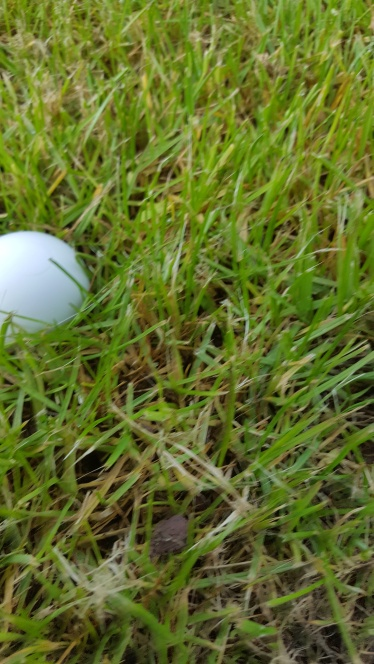egg: (1, 226, 90, 340)
